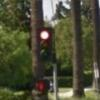traffic lights: (38, 28, 53, 64)
